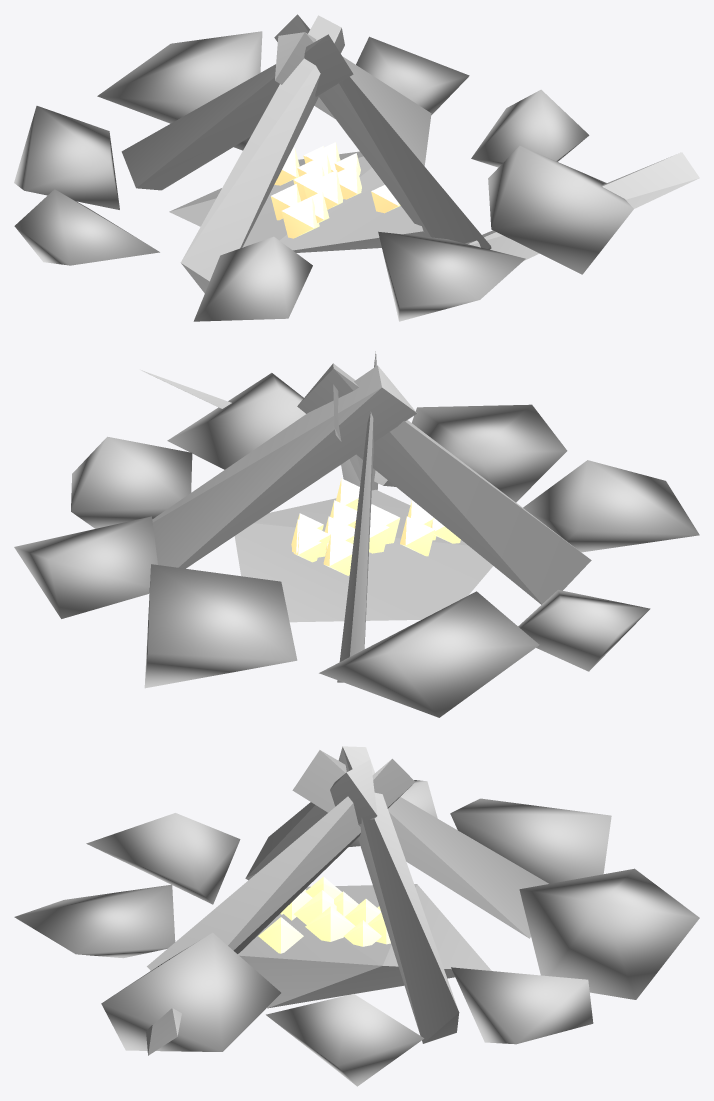
The model's file is campfire_lods.glb.
The picture shows the model from 3 angles, top to bottom: view 1: azimuth 30°, elevation 25°; view 2: azimuth 150°, elevation 25°; view 3: azimuth 270°, elevation 25°; orthographic projection. The views are drawn at different scales.
Parts seen in each view (by area): view 1: campfire_far; view 2: campfire_far; view 3: campfire_far.
Part boxes in pixels (x1=…): campfire_far: x1=14, y1=14, x2=699, y2=321; campfire_far: x1=14, y1=351, x2=699, y2=717; campfire_far: x1=14, y1=746, x2=699, y2=1086.
Size of what is drawn, in the model's own units: 1.36 by 0.4983 by 1.39.
